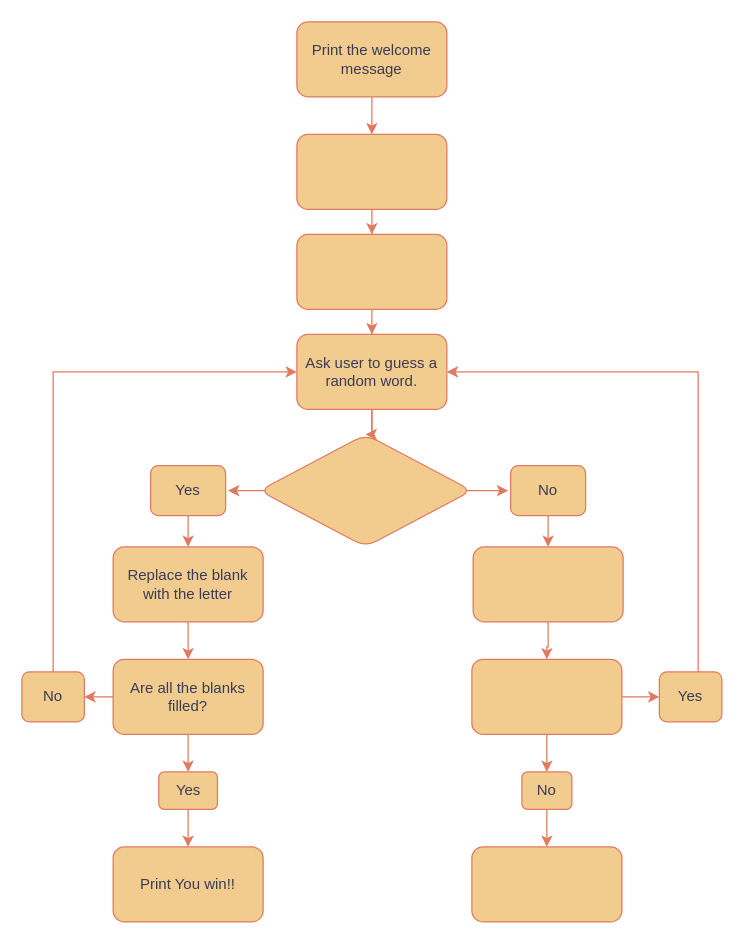
Some shapes in this 744 by 944 pixel diagram are drawn without their labels. The box of each missing label's shape, as (x1, y1, x2, y2) in pixels:
Choose a random word: (296, 133, 447, 209)
Does the letter is in the guessed word?: (258, 433, 472, 547)
Is there life remaining?: (471, 658, 622, 734)
Loose a life!: (472, 546, 623, 622)
Print You lose!: (471, 846, 622, 922)
Replace the letter with a blank: (296, 233, 447, 309)
